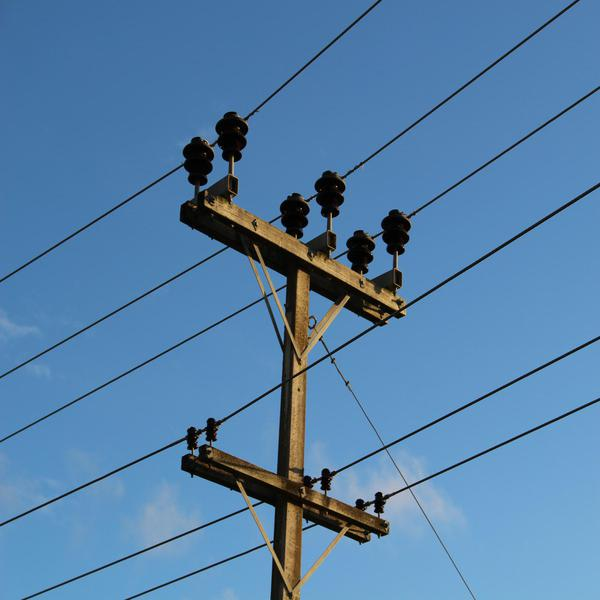utility_pole: (157, 99, 418, 572)
